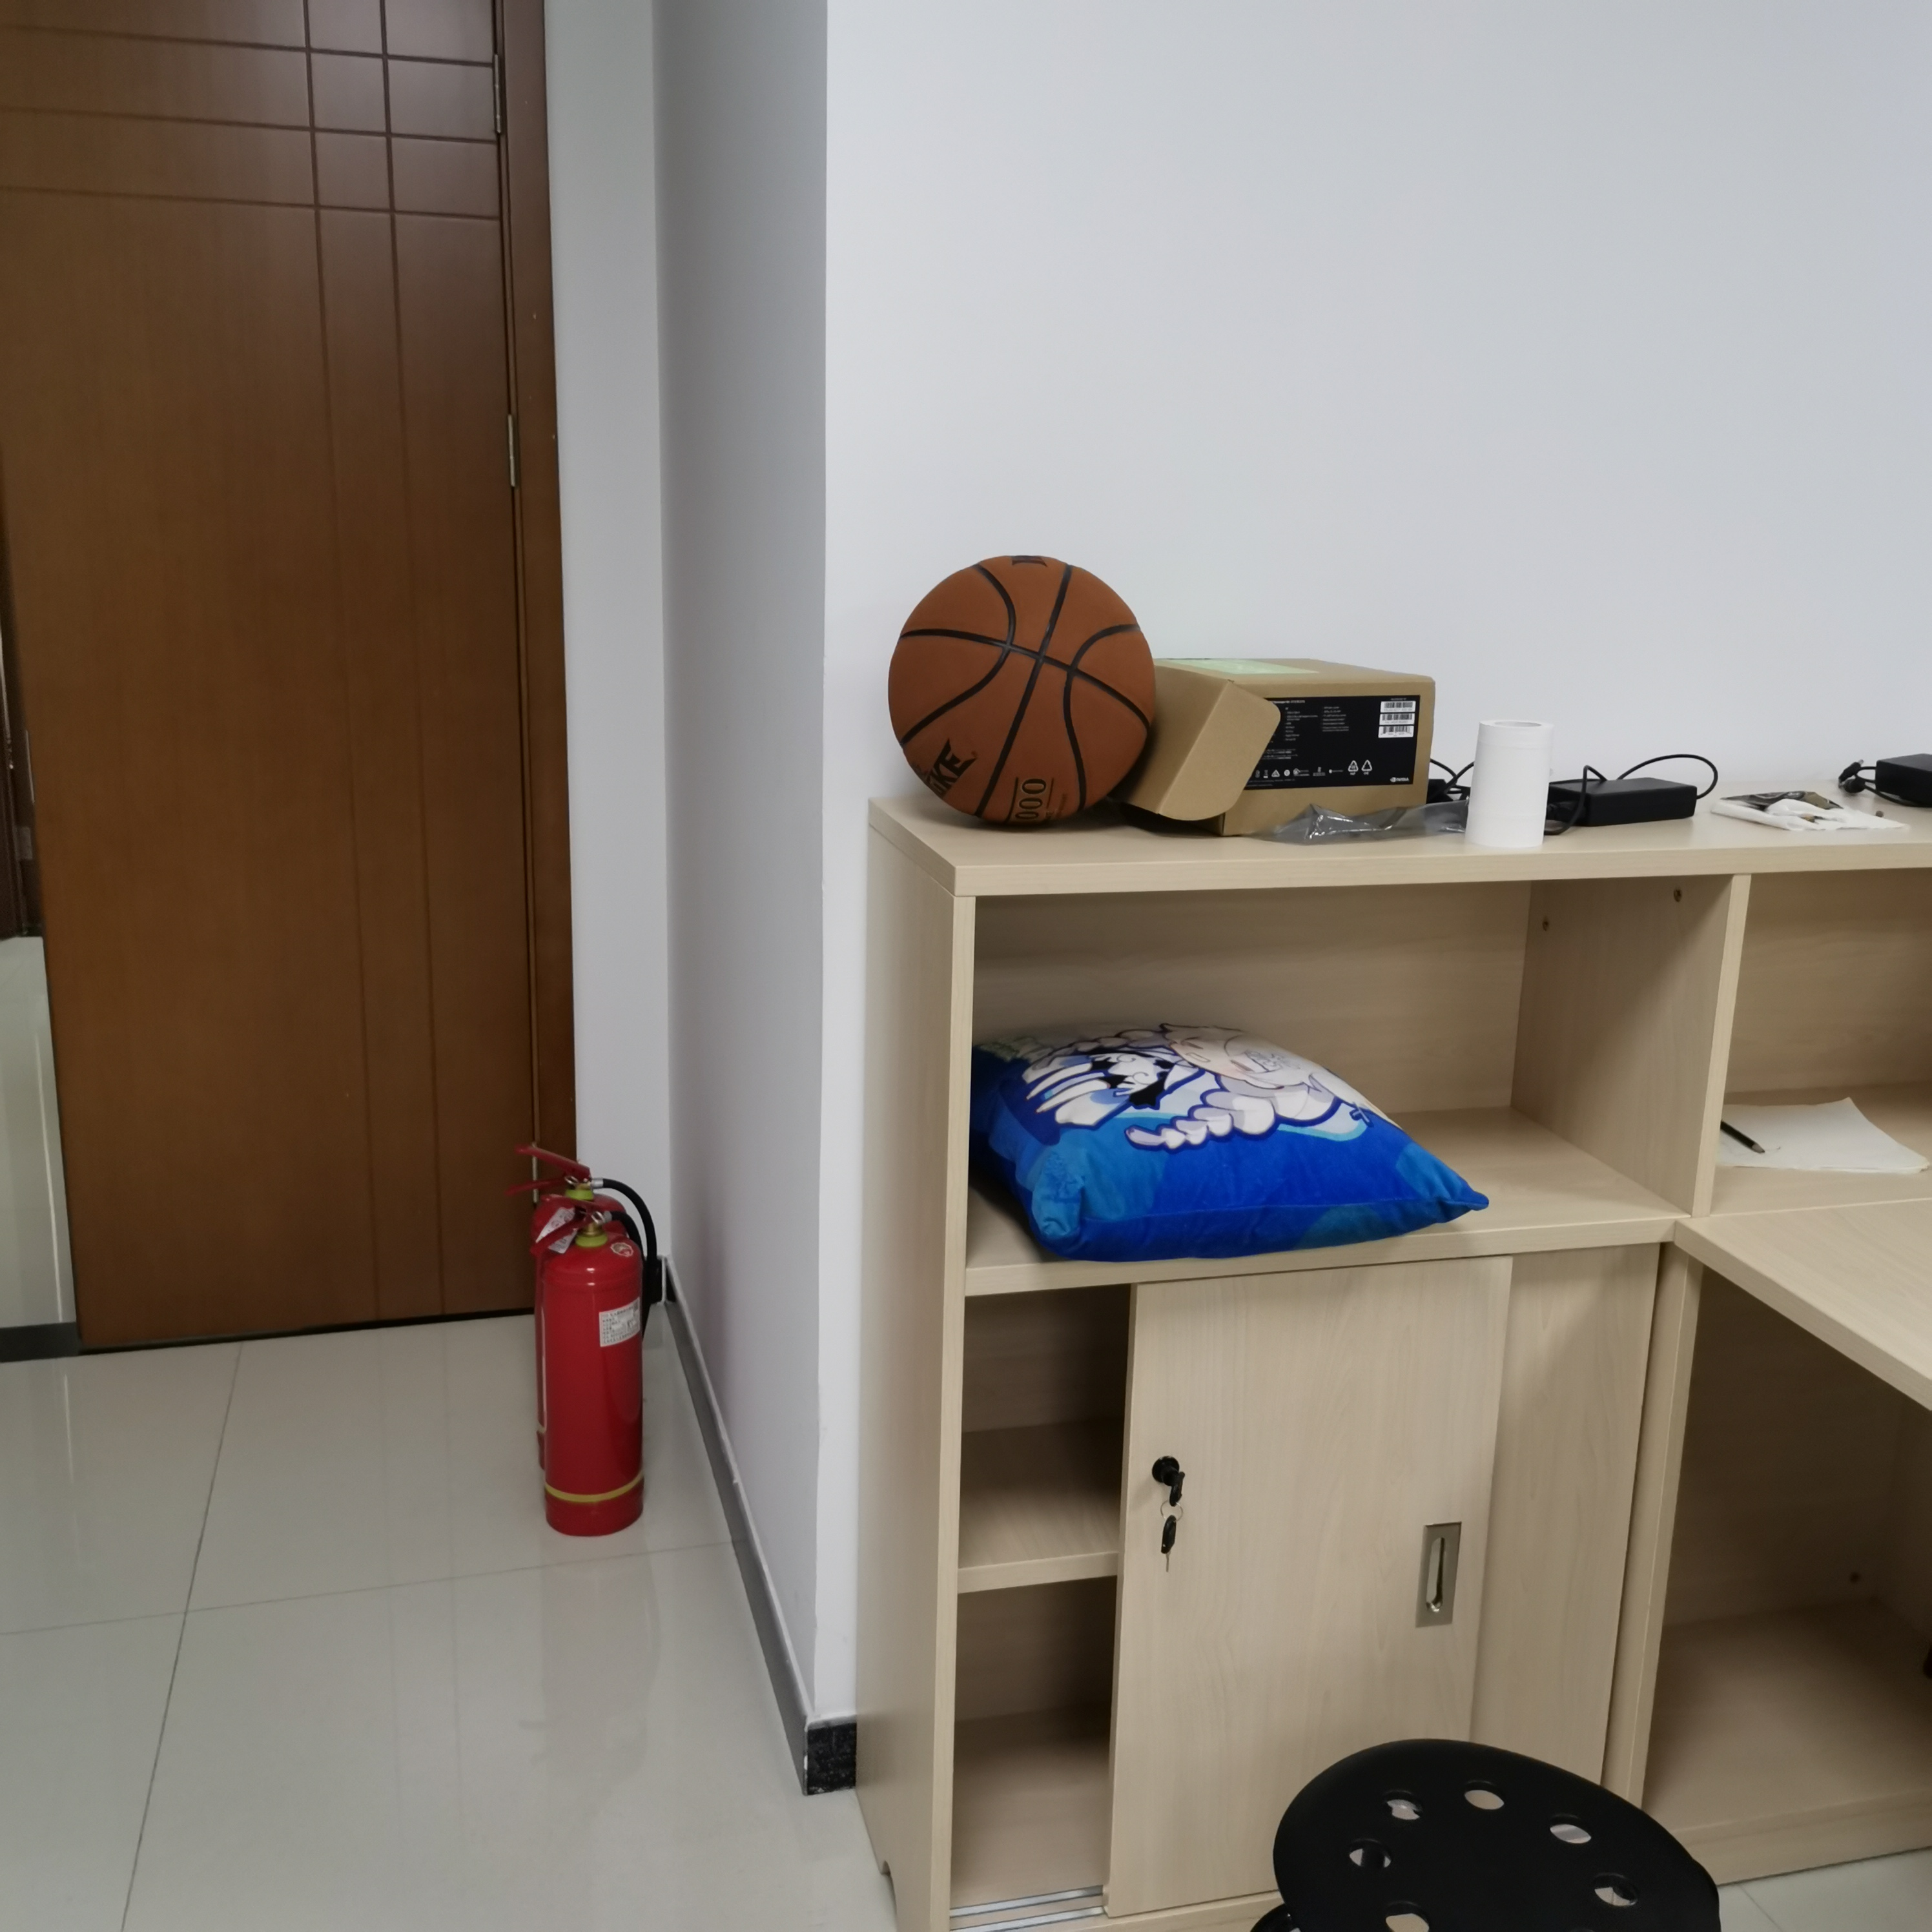basketball: (886, 554, 1155, 830)
